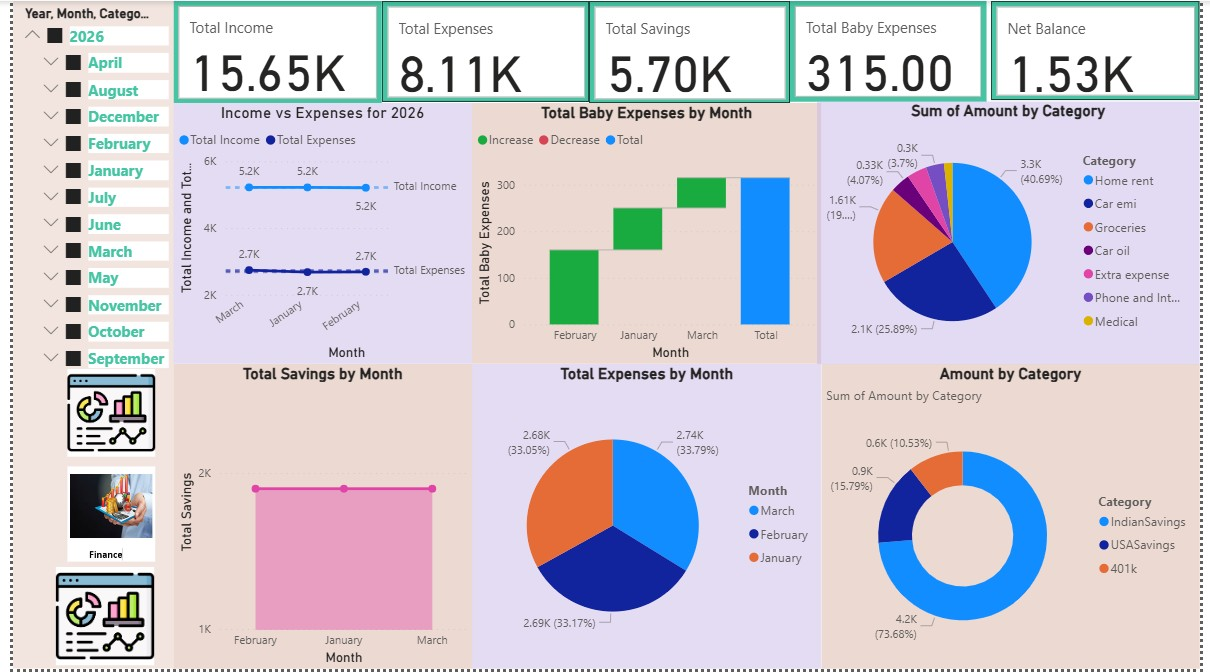

The dashboard page shown, as its layout file describes it:
{"tool":"powerbi","page":{"name":"Duplicate of Overview","canvas":[1280,720],"ordinal":3},"visuals":[{"type":"cardVisual","fields":{"Data":["Calendar.Total Income"]},"box":[173.1,0,224.9,110],"z":0},{"type":"cardVisual","fields":{"Data":["Expenses.Total Expenses"]},"box":[398,0,223.3,108.4],"z":1000},{"type":"cardVisual","fields":{"Data":["Savings.Total Savings"]},"box":[621.3,0,216.8,110],"z":2000},{"type":"cardVisual","fields":{"Data":["baby_expenses.Total Baby Expenses"]},"box":[838.1,0,212,108.4],"z":3000},{"type":"cardVisual","fields":{"Data":["Savings.Net Balance"]},"box":[1054.9,0,224.9,106.8],"z":4000},{"type":"slicer","fields":{"Values":["Calendar.Year","Calendar.Month","Expenses.Category"]},"box":[0,0,173.1,720],"z":5000},{"type":"lineChart","fields":{"Y":["Calendar.Total Income","Expenses.Total Expenses"],"Category":["Calendar.Month"]},"box":[173.1,110,322,281.5],"z":6000},{"type":"waterfallChart","fields":{"Category":["Calendar.Month"],"Y":["baby_expenses.Total Baby Expenses"]},"box":[495.1,110,377,281.5],"z":7000},{"type":"areaChart","fields":{"Category":["Calendar.Month"],"Y":["Savings.Total Savings"]},"box":[173.1,391.6,322,328.4],"z":8000},{"type":"pieChart","fields":{"Y":["Expenses.Total Expenses"],"Category":["Calendar.Month"]},"box":[495.1,391.6,377,328.4],"z":9000},{"type":"donutChart","title":" Amount by Category","fields":{"Category":["Savings.Category"],"Y":["Sum(Savings.Amount)"]},"box":[872.2,390.8,407.8,328.5],"z":10000},{"type":"pieChart","fields":{"Category":["Expenses.Category"],"Y":["Sum(Expenses.Amount)"]},"box":[867.2,108.4,412.6,283.1],"z":11000},{"type":"actionButton","box":[0,0,100,40],"z":12000},{"type":"image","box":[9.7,399.6,155.3,173.1],"z":13000},{"type":"image","box":[9.7,572.8,142.4,147.2],"z":14000},{"type":"actionButton","box":[0,0,100,40],"z":15000}]}

Visuals, with their boxes on the page's 1280x720 design canvas (x1, y1, x2, y2). These are canvas units, not pixel positions in the 1210x672 screenshot, which may show the page scaled, cropped or inside an application window:
cardVisual - Calendar.Total Income: [173,0,398,110]
cardVisual - Expenses.Total Expenses: [398,0,621,108]
cardVisual - Savings.Total Savings: [621,0,838,110]
cardVisual - baby_expenses.Total Baby Expenses: [838,0,1050,108]
cardVisual - Savings.Net Balance: [1055,0,1280,107]
slicer - Calendar.Year x Calendar.Month: [0,0,173,720]
lineChart - Calendar.Total Income x Expenses.Total Expenses: [173,110,495,392]
waterfallChart - Calendar.Month x baby_expenses.Total Baby Expenses: [495,110,872,392]
areaChart - Calendar.Month x Savings.Total Savings: [173,392,495,720]
pieChart - Expenses.Total Expenses x Calendar.Month: [495,392,872,720]
" Amount by Category" donutChart: [872,391,1280,719]
pieChart - Expenses.Category x Sum(Expenses.Amount): [867,108,1280,392]
actionButton: [0,0,100,40]
image: [10,400,165,573]
image: [10,573,152,720]
actionButton: [0,0,100,40]
